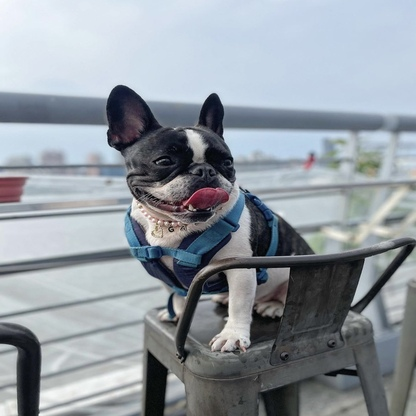bulldog: (105, 83, 323, 358)
